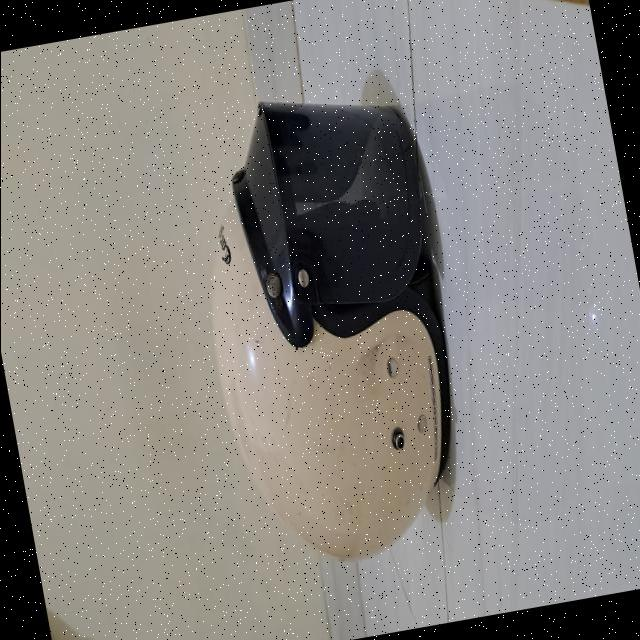Helm: (174, 73, 496, 592)
